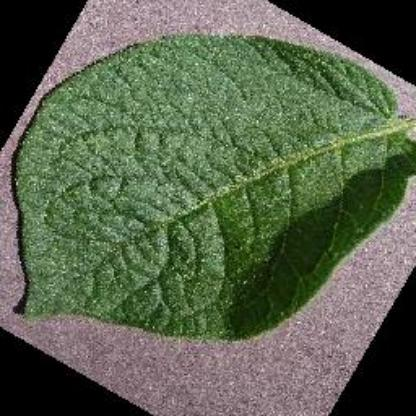Healthy-plant: (15, 30, 416, 342)
